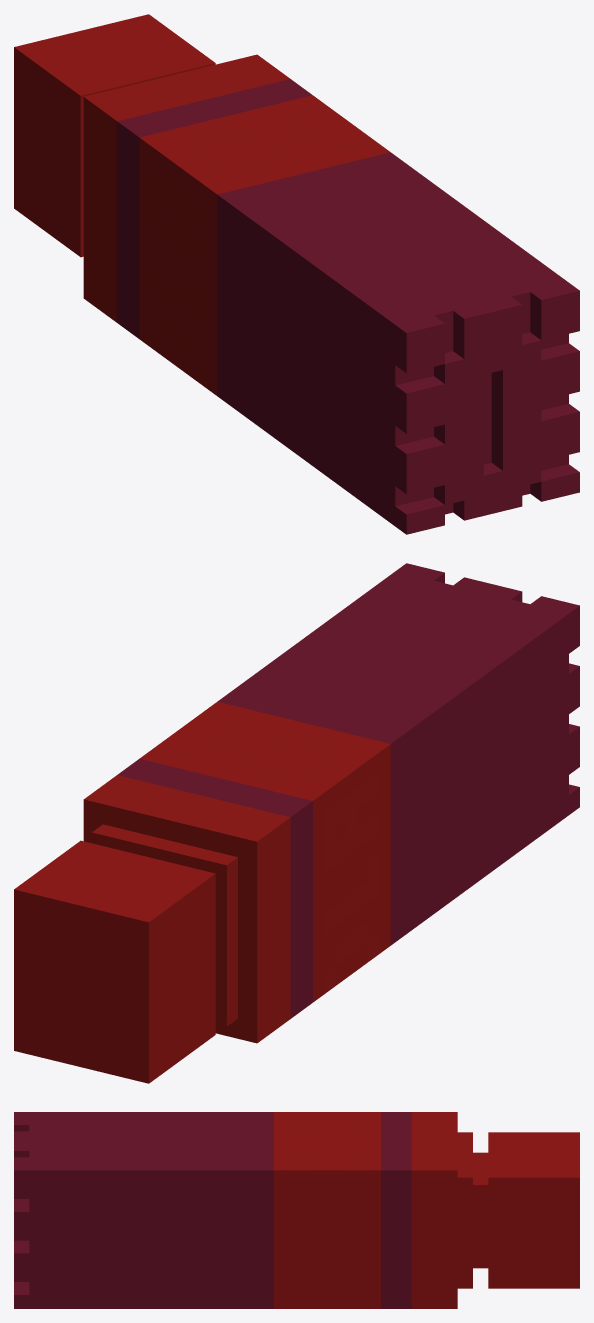
Rendered from cola.obj.
3 views of the same model, one above another, from view 1: azimuth 30°, elevation 25°; view 2: azimuth 150°, elevation 25°; view 3: azimuth 270°, elevation 25° (orthographic). The views are drawn at different scales.
Parts seen in each view (by area): view 1: cola; view 2: cola; view 3: cola.
Boxes of the visible parts, bbox=[...] form: cola: bbox=[14, 14, 579, 534]; cola: bbox=[14, 563, 579, 1083]; cola: bbox=[14, 1112, 579, 1308].
Size of the model in its own units: 0.9 by 1 by 3.7.
